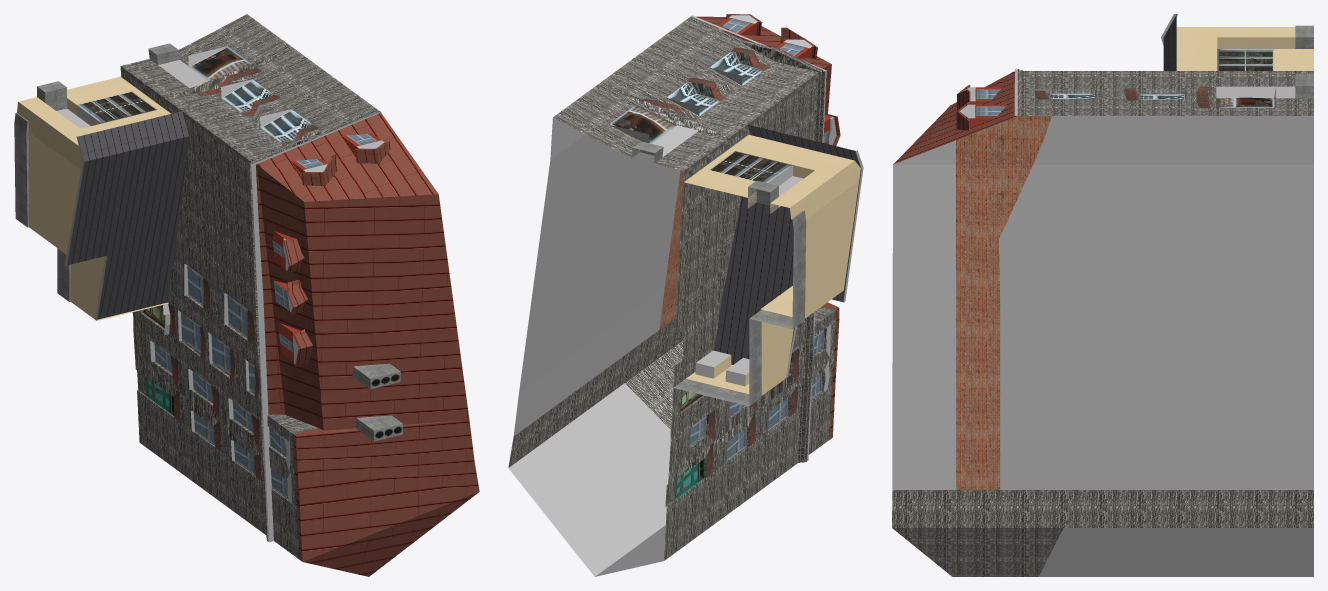
Rendered from Nunne_11a-origo.obj.
The picture shows the model from 3 angles, left to right: view 1: azimuth 30°, elevation 25°; view 2: azimuth 150°, elevation 25°; view 3: azimuth 270°, elevation 25°; orthographic projection. The views are drawn at different scales.
Parts seen in each view (by area): view 1: Nunne_11a; view 2: Nunne_11a; view 3: Nunne_11a.
Part boxes in pixels (x1,y1,x2,y2): Nunne_11a: (14,14,479,576); Nunne_11a: (508,14,863,576); Nunne_11a: (892,14,1313,576).
Size of the model in its own units: 13.62 by 20.5 by 16.23.
